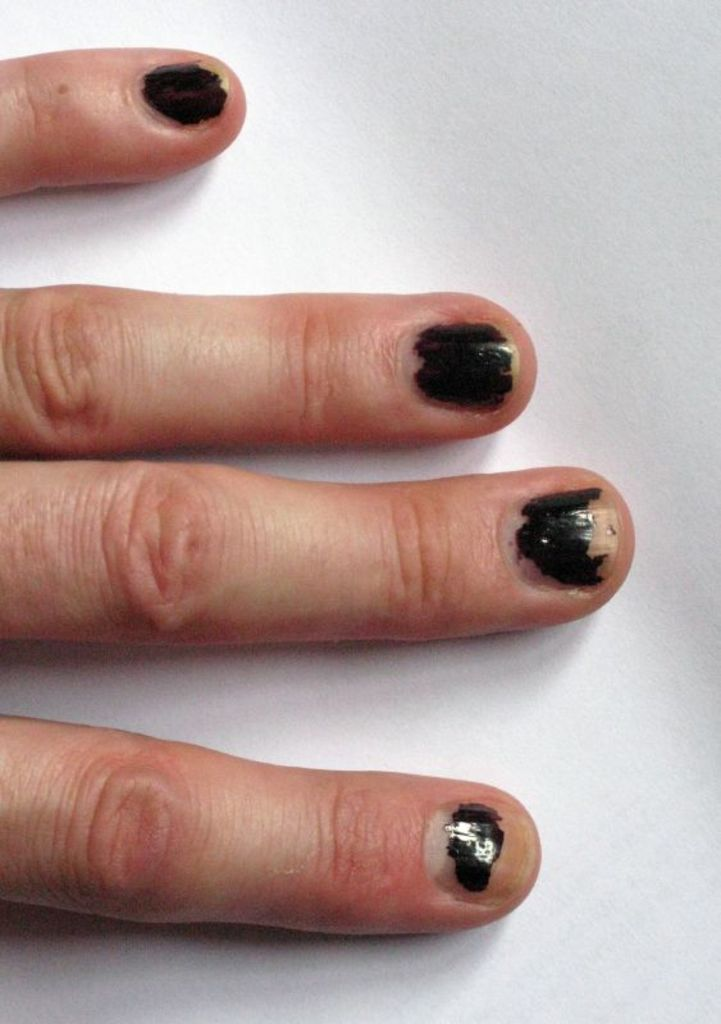Human_hand: (0, 47, 635, 935)
